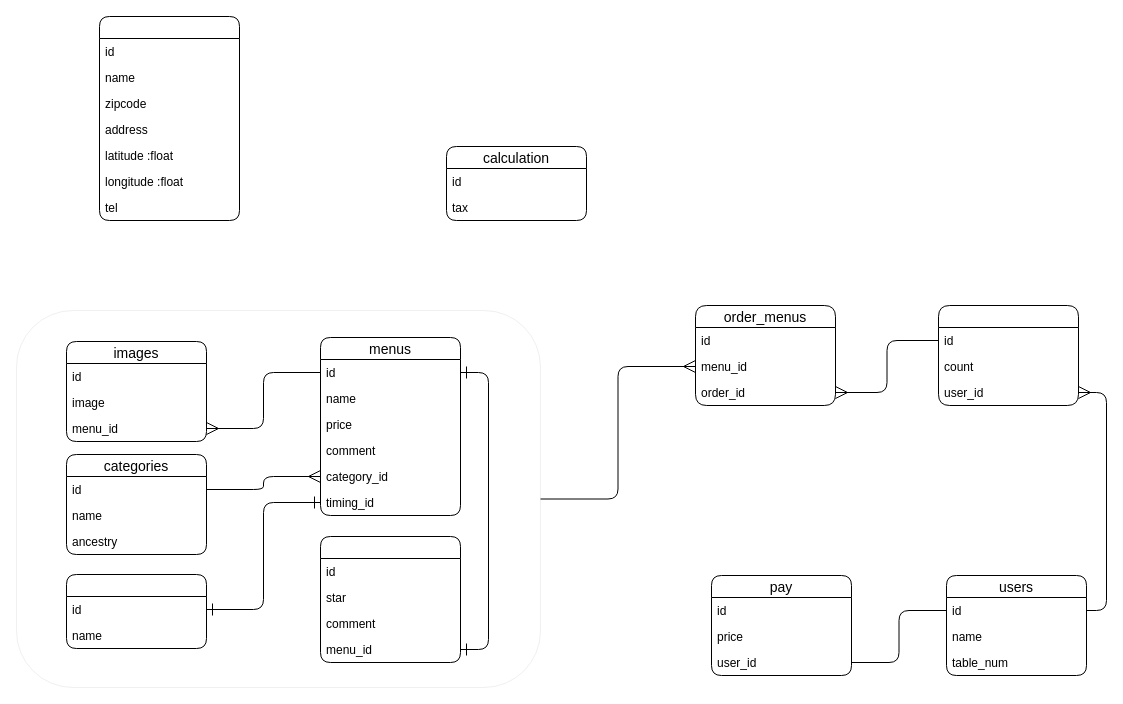
The diagram is 1123 pixels wide and 704 high, and some of its shapes have lost their labels. Each missing label, with the box of its shape:
infos: (98, 16, 240, 220)
orders: (938, 304, 1078, 406)
reviews: (320, 536, 460, 662)
timing: (66, 574, 206, 648)
